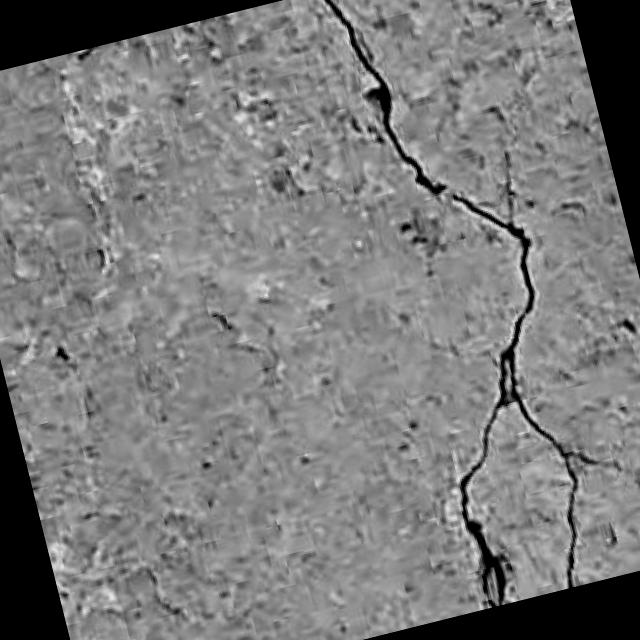crack: (323, 0, 597, 607)
